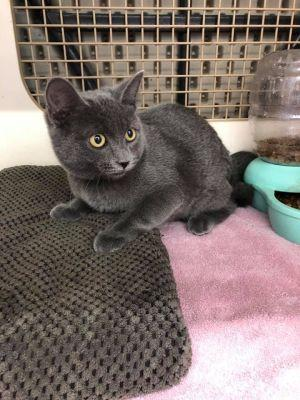rblue: (37, 72, 157, 190)
